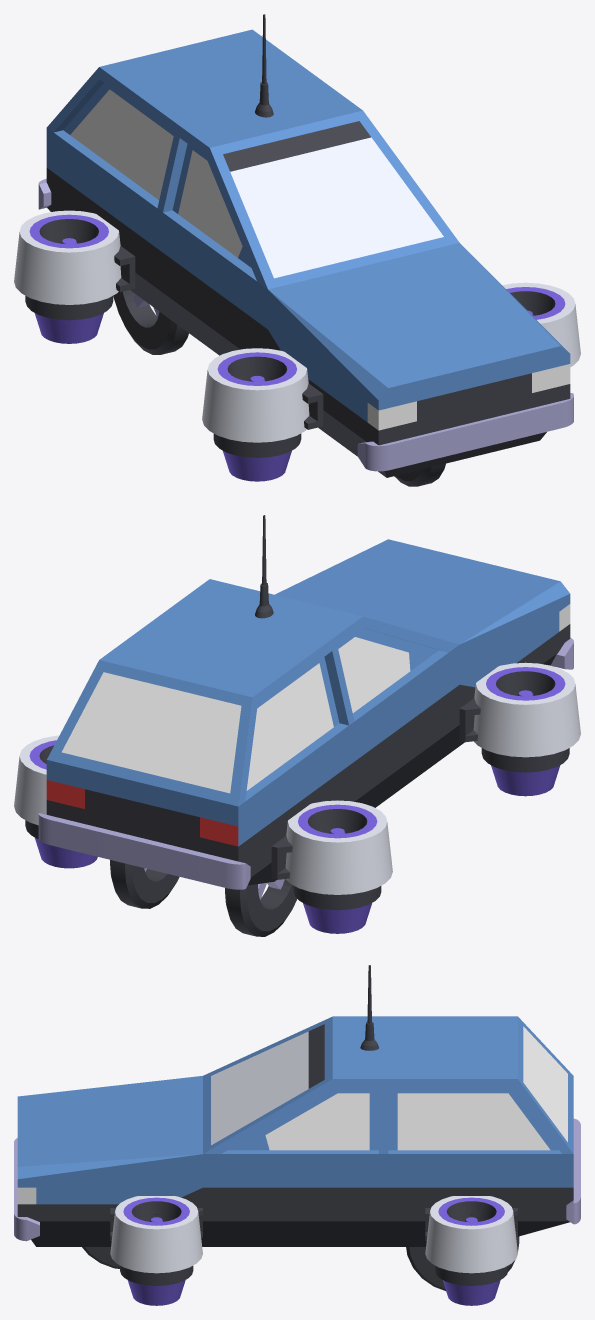
The model's file is FlyingCar1.fbx.
The picture shows the model from 3 angles, top to bottom: view 1: azimuth 30°, elevation 25°; view 2: azimuth 150°, elevation 25°; view 3: azimuth 270°, elevation 25°; orthographic projection. The views are drawn at different scales.
Visible parts, largest first — view 1: mergedBlocks; view 2: mergedBlocks; view 3: mergedBlocks.
Boxes of the visible parts, x1,y1,x2,y2 form: mergedBlocks: (14,14,580,486); mergedBlocks: (14,515,580,936); mergedBlocks: (14,965,580,1305).
Size of the model in its own units: 190 by 180 by 306.
